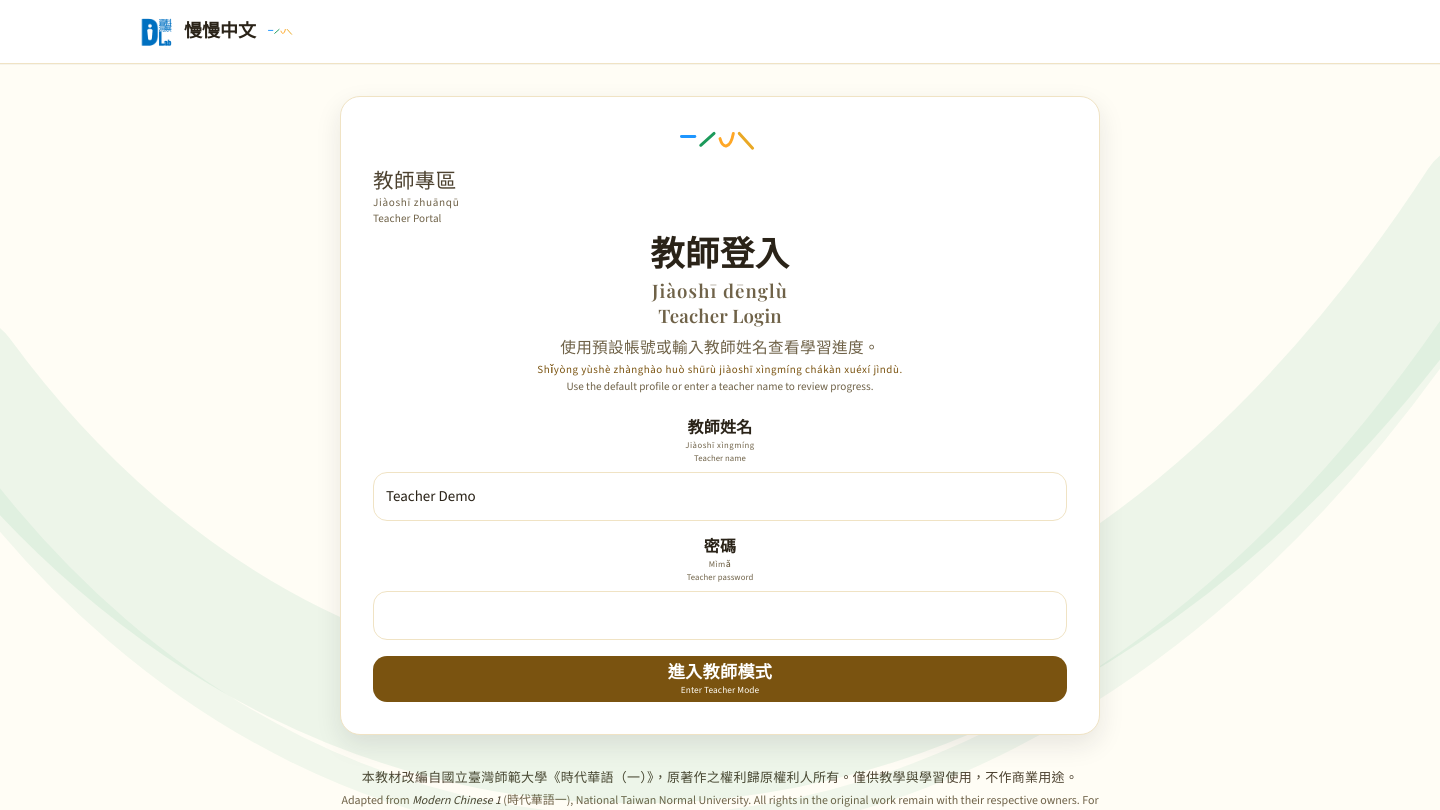
teacher and admin integration flows › lets a teacher sign in and land on the help queue
Clear the field with placeholder "輸入教師姓名 · Enter teacher name" at (720,497), box [373,472,1067,521]
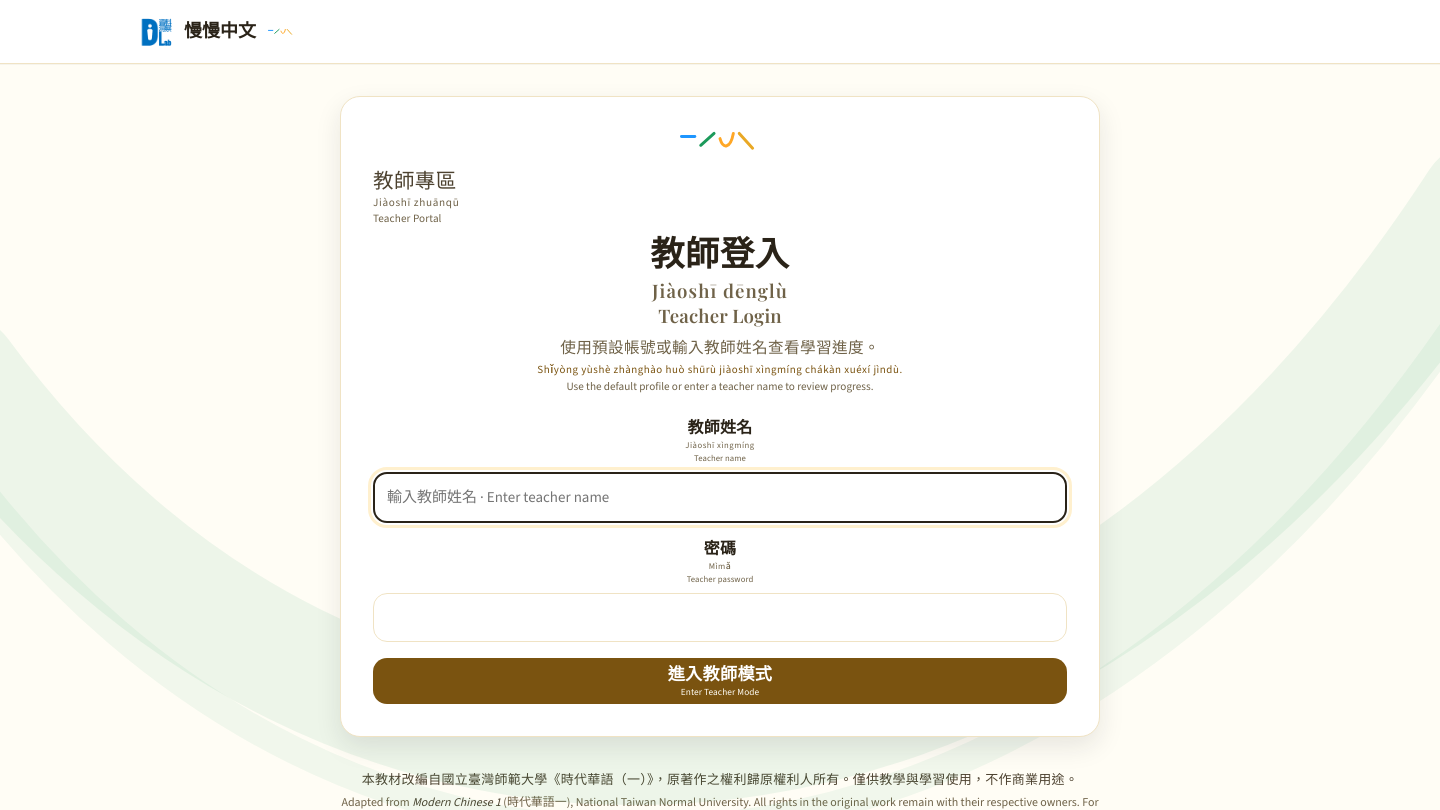
Type "Teacher 42" into the field with placeholder "輸入教師姓名 · Enter teacher name" at (720,498), box [373,472,1067,523]
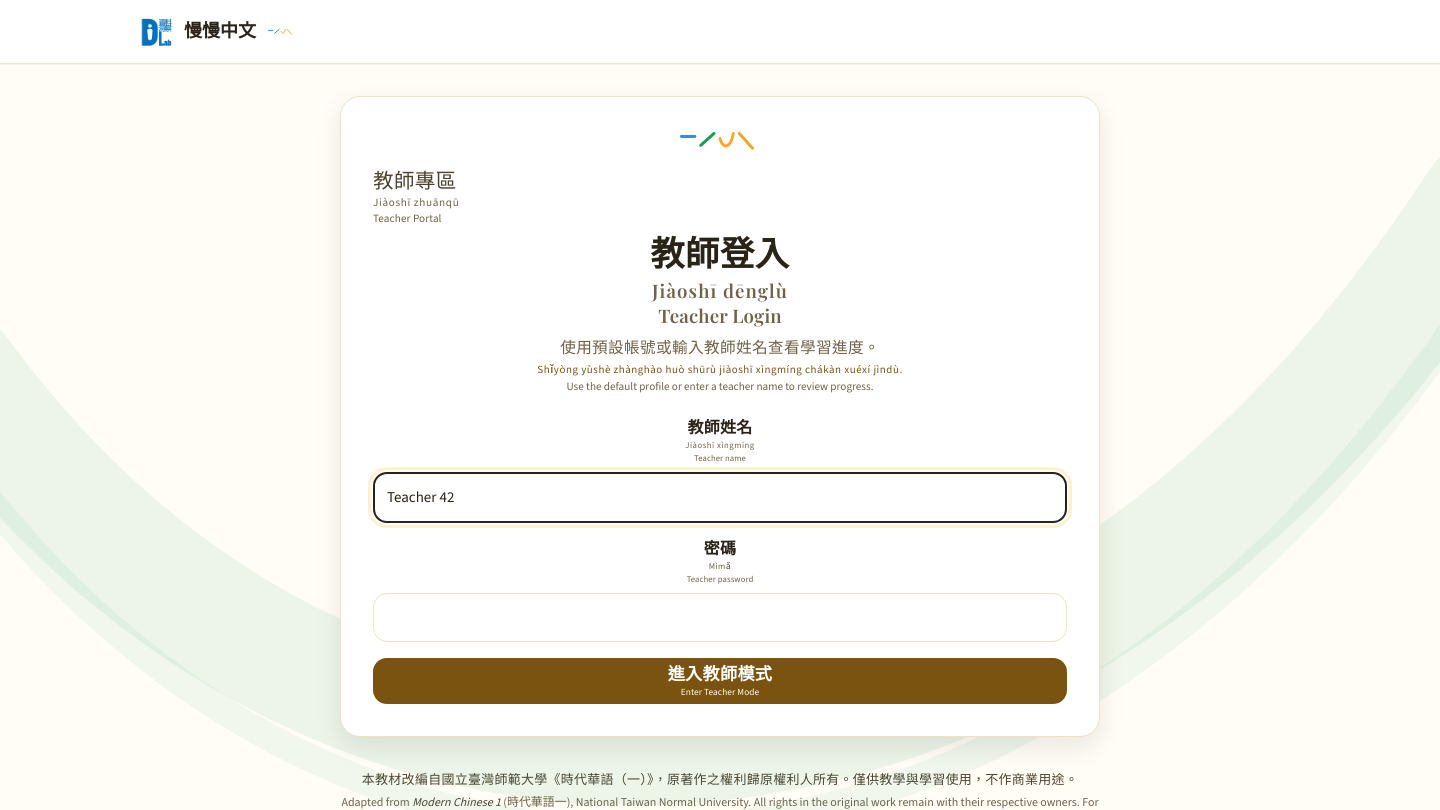
Type "123456" into the password field labelled "密碼 Mìmǎ Teacher password" at (720,618), box [373,593,1067,642]
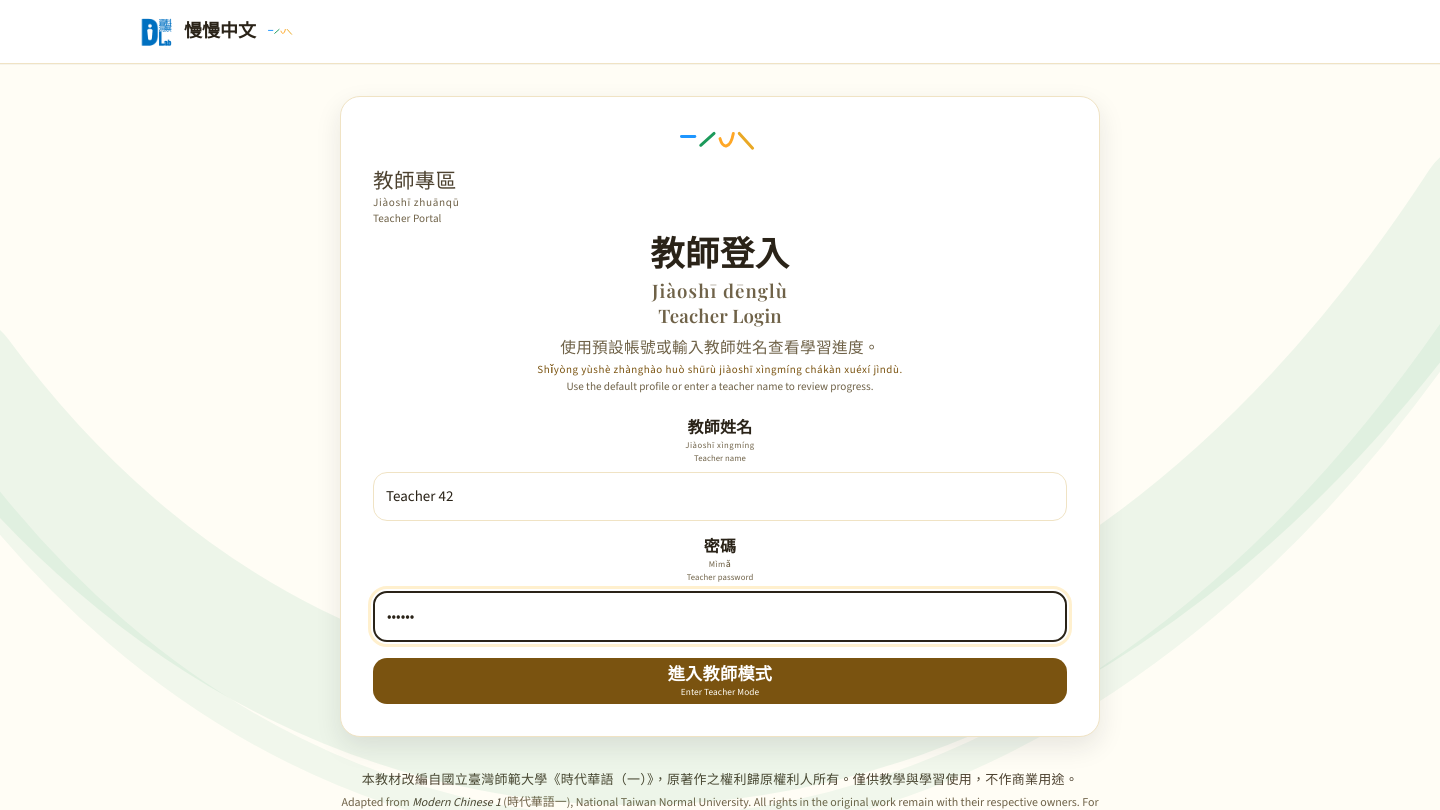
Click the button "進入教師模式 Enter Teacher Mode" at (720,681), box [373,658,1067,704]
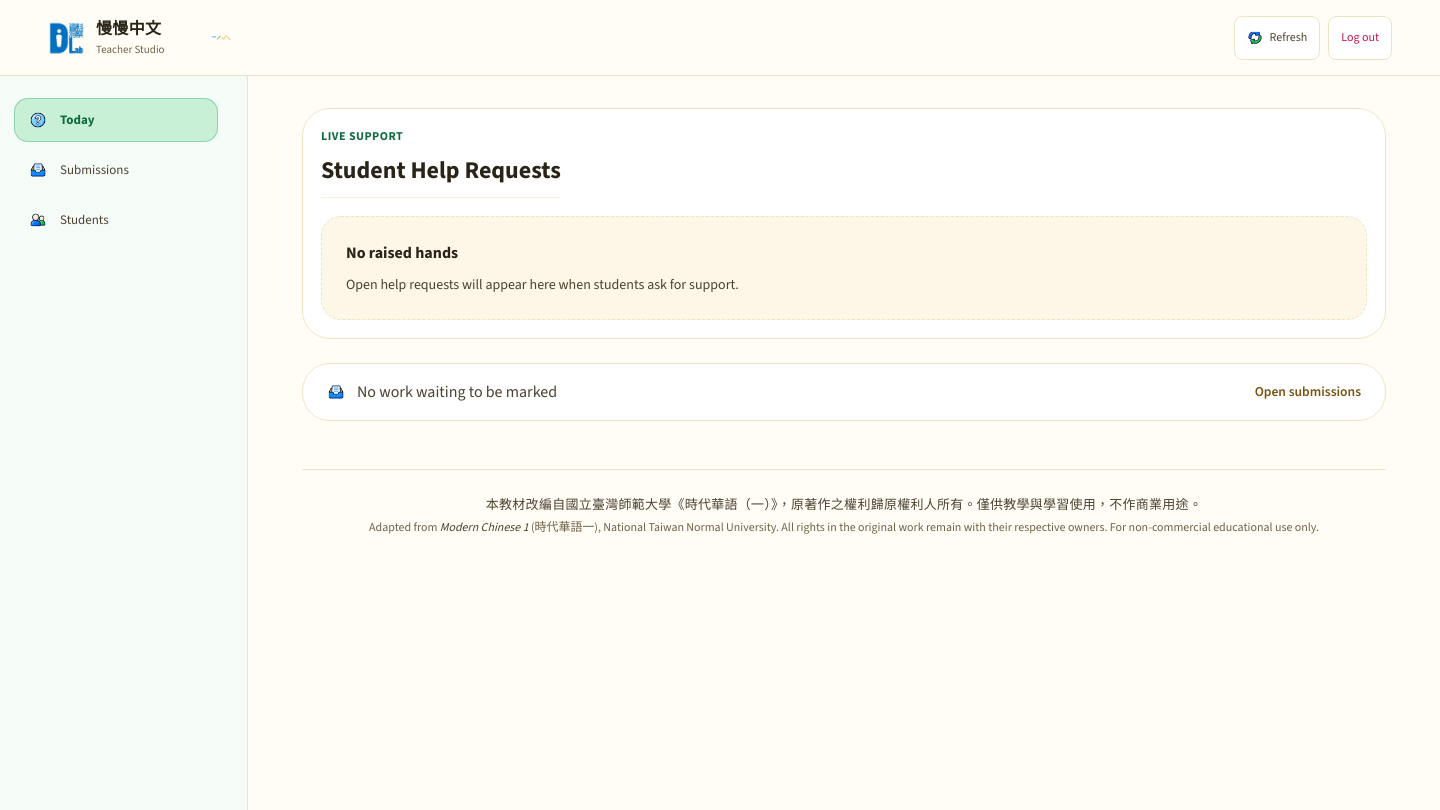
Check: the heading "Student Help Requests" is shown, box [321,152,561,198]
Check: the text "Teacher Studio" is shown, box [96,42,165,57]
